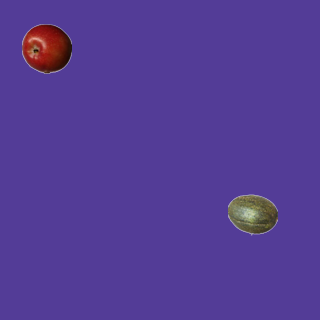Apple Braeburn: (21, 23, 71, 73)
Melon Piel de Sapo: (227, 189, 277, 239)
